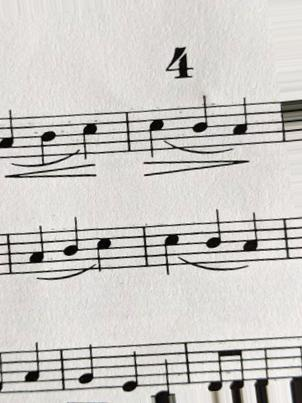note: (117, 341, 143, 395), (87, 228, 116, 276), (71, 343, 99, 392), (24, 222, 49, 276), (140, 111, 168, 159), (237, 210, 261, 266), (21, 339, 45, 395), (190, 94, 214, 150), (61, 218, 86, 271), (158, 224, 182, 279), (202, 208, 224, 266), (34, 113, 57, 166), (229, 97, 251, 151), (76, 113, 101, 160), (1, 109, 21, 157)
